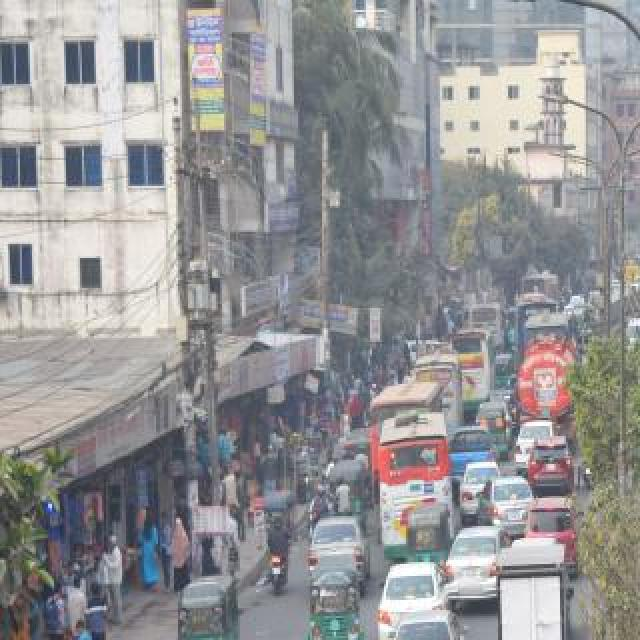bus: (377, 409, 453, 555), (369, 378, 445, 442), (410, 352, 462, 420), (447, 334, 489, 410), (466, 301, 502, 357)
car: (378, 548, 444, 640), (444, 524, 506, 612), (303, 515, 371, 577), (525, 498, 585, 556), (479, 470, 537, 526), (459, 450, 497, 518), (390, 604, 456, 640), (531, 436, 577, 486), (515, 416, 559, 466), (252, 632, 368, 640)
motorbike: (264, 510, 294, 592), (307, 486, 333, 528)
truck: (518, 333, 578, 423)
van: (494, 534, 576, 640), (448, 426, 502, 474)
